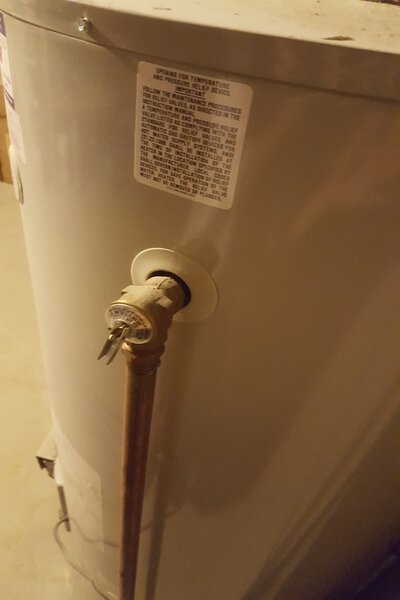valve: (97, 271, 187, 389)
